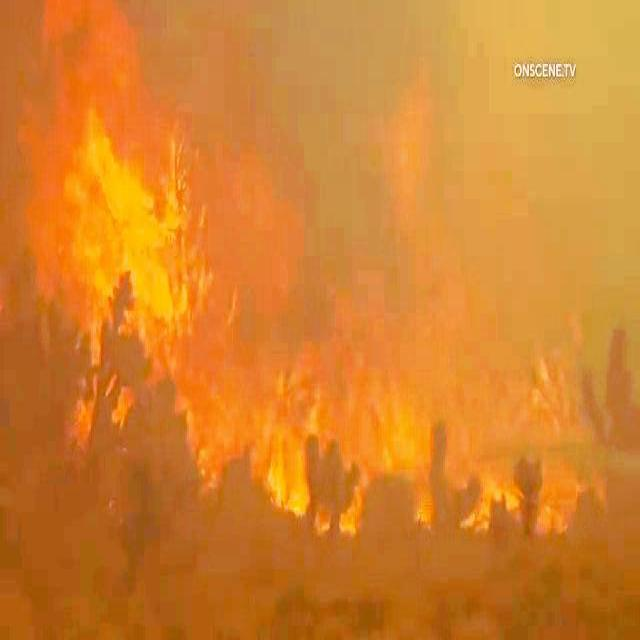Fire: (32, 19, 240, 462)
